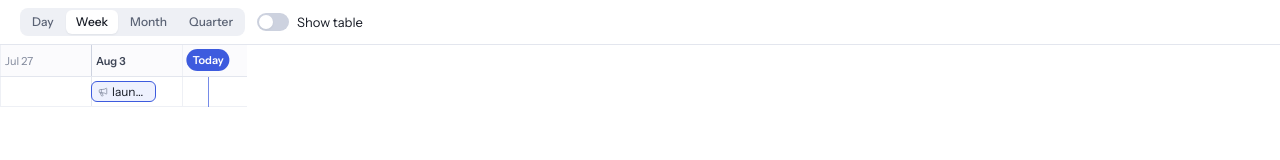
Test: TimelineView table half › toggles the table from the view chrome
Click the switch labelled "Show table".
click(310, 22)  # box [257,12,363,32]
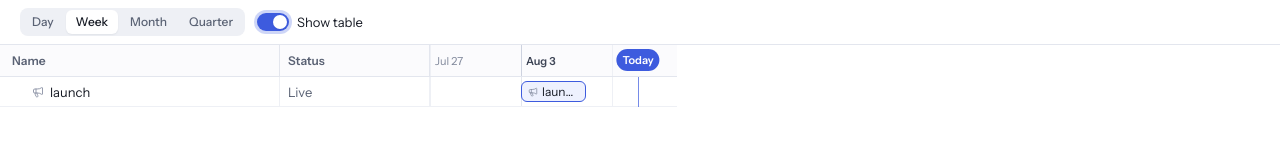
Expected: the element with test id "time-table" is shown, [0,45,430,107]
